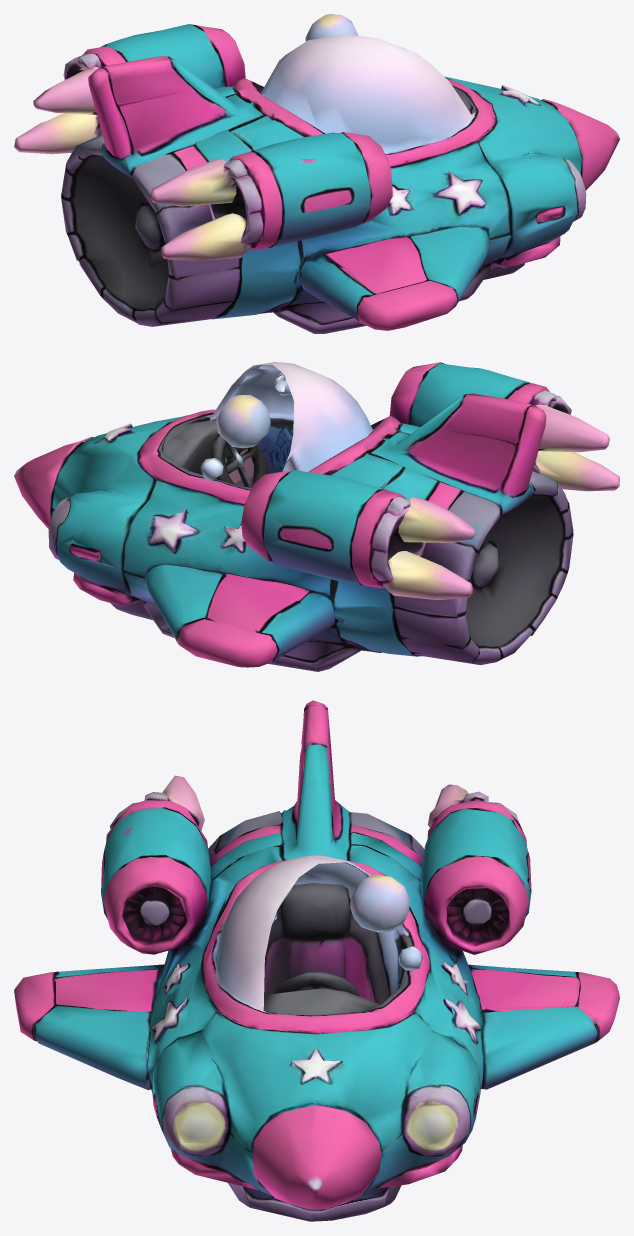
Rendered from car_rocket.glb.
3 views of the same model, one above another, from view 1: azimuth 30°, elevation 25°; view 2: azimuth 150°, elevation 25°; view 3: azimuth 270°, elevation 25° (orthographic). The views are drawn at different scales.
Parts seen in each view (by area): view 1: tripo_node_cf3cff54-04a7-4e8e-9a8f-538f2022f1c6; view 2: tripo_node_cf3cff54-04a7-4e8e-9a8f-538f2022f1c6; view 3: tripo_node_cf3cff54-04a7-4e8e-9a8f-538f2022f1c6.
Part boxes in pixels (left/top/right/bottom): tripo_node_cf3cff54-04a7-4e8e-9a8f-538f2022f1c6: left=14, top=14, right=619, bottom=333; tripo_node_cf3cff54-04a7-4e8e-9a8f-538f2022f1c6: left=14, top=362, right=619, bottom=671; tripo_node_cf3cff54-04a7-4e8e-9a8f-538f2022f1c6: left=14, top=700, right=619, bottom=1221.
Size of the model in its own units: 0.9993 by 0.4993 by 0.9013.
1 material, 1 textured.
